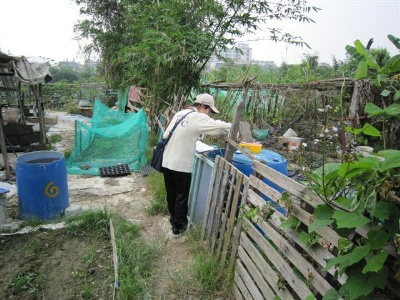bowl: (249, 143, 264, 154)
box: (99, 164, 131, 177)
bucket: (16, 150, 69, 218), (280, 128, 297, 144), (288, 138, 300, 151)
plastic_bag: (14, 54, 48, 82)
